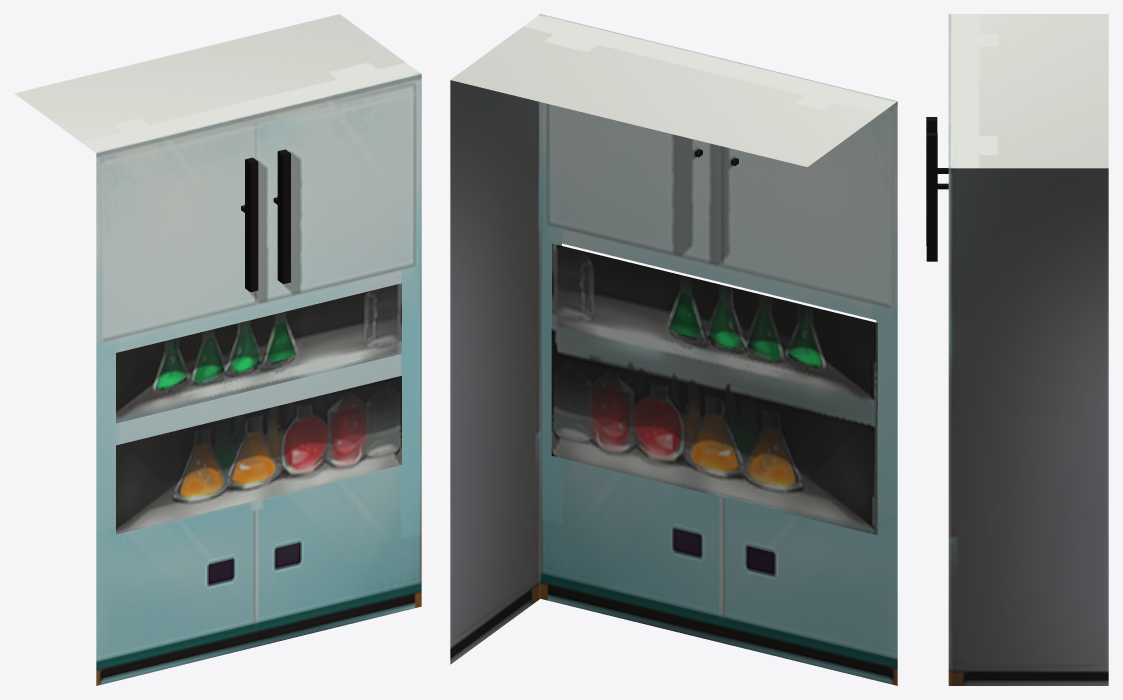
The model's file is Tx_Props_cabinet_ScienceDept.fbx.
The picture shows the model from 3 angles, left to right: view 1: azimuth 30°, elevation 25°; view 2: azimuth 150°, elevation 25°; view 3: azimuth 270°, elevation 25°; orthographic projection. The views are drawn at different scales.
Parts seen in each view (by area): view 1: Tx_Props_cabinet_ScienceDept1; view 2: Tx_Props_cabinet_ScienceDept1; view 3: Tx_Props_cabinet_ScienceDept1.
Boxes of the visible parts, x1,y1,x2,y2 form: Tx_Props_cabinet_ScienceDept1: (14, 14, 421, 685); Tx_Props_cabinet_ScienceDept1: (450, 14, 897, 685); Tx_Props_cabinet_ScienceDept1: (926, 14, 1108, 685).
Size of the model in its own units: 11.48 by 17.96 by 5.72.
